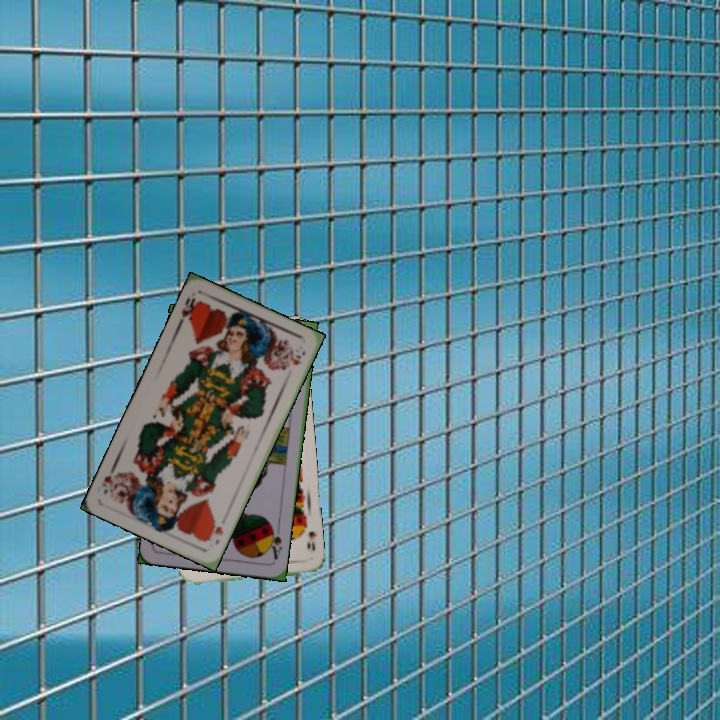HO: (177, 293, 202, 325), (201, 519, 226, 547)
S9: (298, 519, 319, 553)
SA: (264, 522, 285, 562)
